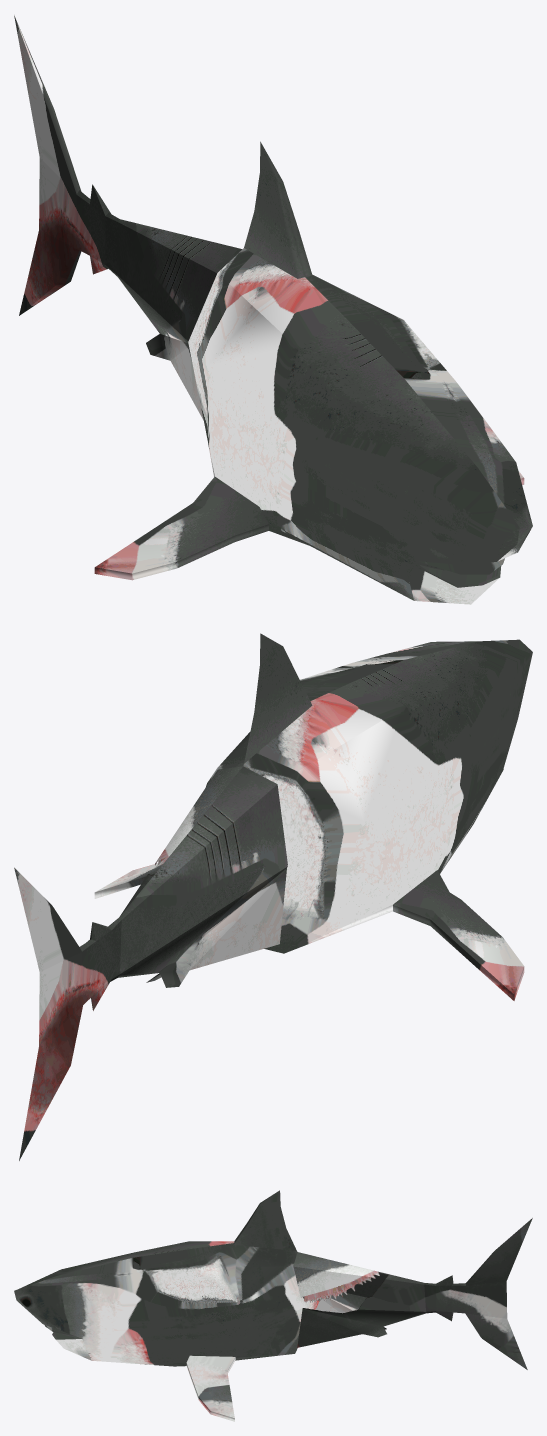
Rendered from Shark.obj.
The picture shows the model from 3 angles, top to bottom: view 1: azimuth 30°, elevation 25°; view 2: azimuth 150°, elevation 25°; view 3: azimuth 270°, elevation 25°; orthographic projection. The views are drawn at different scales.
Parts seen in each view (by area): view 1: SharkBody:Mesh, SharkTail:Mesh, SharkJaw:Mesh; view 2: SharkBody:Mesh, SharkTail:Mesh; view 3: SharkBody:Mesh, SharkTail:Mesh, SharkJaw:Mesh.
Part boxes in pixels (x1=…): SharkBody:Mesh: x1=94, y1=141, x2=532, y2=600; SharkTail:Mesh: x1=14, y1=15, x2=242, y2=419; SharkJaw:Mesh: x1=403, y1=560, x2=501, y2=604; SharkBody:Mesh: x1=94, y1=633, x2=532, y2=1000; SharkTail:Mesh: x1=14, y1=766, x2=287, y2=1160; SharkBody:Mesh: x1=14, y1=1190, x2=319, y2=1421; SharkTail:Mesh: x1=293, y1=1218, x2=532, y2=1369; SharkJaw:Mesh: x1=52, y1=1332, x2=91, y2=1360.
Size of the model in its own units: 46.74 by 37.44 by 97.62.
1 material, 1 textured.
